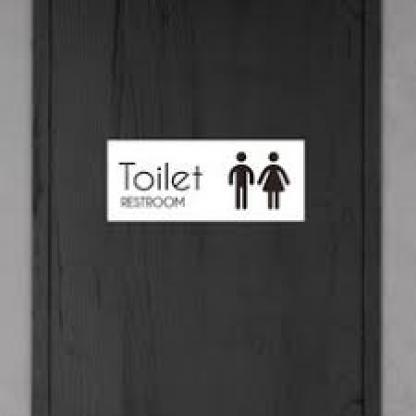toilet: (226, 146, 293, 217)
